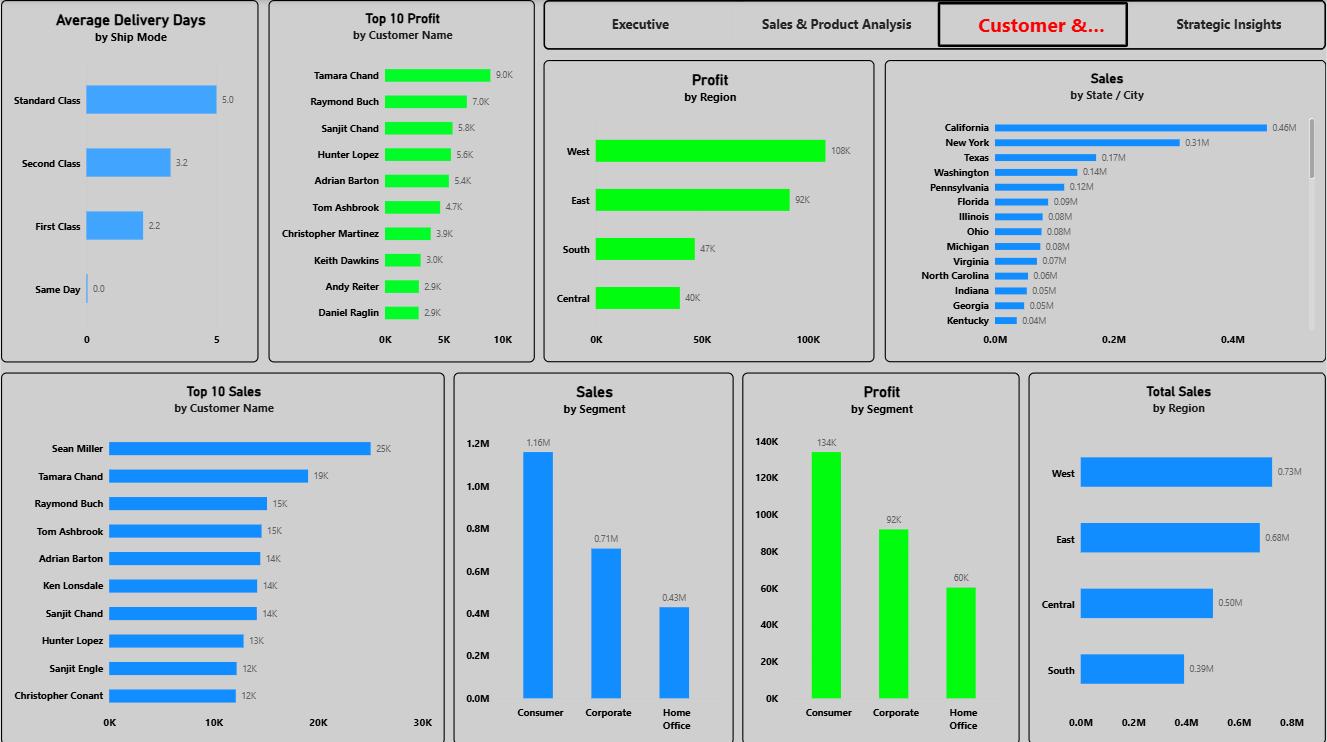

The dashboard page shown, as its layout file describes it:
{"tool":"powerbi","page":{"name":"Customer & Shipping Insights","canvas":[1920,1080],"ordinal":2},"visuals":[{"type":"clusteredBarChart","title":"Top 10 Sales","fields":{"Category":["superstore_project superstore_cleaned.Customer Name"],"Y":["superstore_project superstore_cleaned.Total Sales"]},"box":[0,539.3,642.4,541.1],"z":0},{"type":"clusteredBarChart","title":"Top 10 Profit","fields":{"Category":["superstore_project superstore_cleaned.Customer Name"],"Y":["superstore_project superstore_cleaned.Total Profit"]},"box":[387.3,0,385.5,524.8],"z":1000},{"type":"clusteredColumnChart","title":"Sales","fields":{"Category":["superstore_project superstore_cleaned.Segment"],"Y":["superstore_project superstore_cleaned.Total Sales"]},"box":[655.1,539.3,405.4,541.1],"z":2000},{"type":"clusteredColumnChart","title":"Profit","fields":{"Category":["superstore_project superstore_cleaned.Segment"],"Y":["superstore_project superstore_cleaned.Total Profit"]},"box":[1073.1,539.3,401.7,541.1],"z":3000},{"type":"clusteredBarChart","fields":{"Category":["superstore_project superstore_cleaned.Ship Mode"],"Y":["superstore_project superstore_cleaned.Average Delivery Days"]},"box":[0,0,372.8,524.8],"z":4000},{"type":"clusteredBarChart","title":"Profit","fields":{"Y":["superstore_project superstore_cleaned.Total Profit"],"Category":["superstore_project superstore_cleaned.Region"]},"box":[785.4,86.9,479.6,437.9],"z":5000},{"type":"clusteredBarChart","title":"Sales","fields":{"Category":["superstore_project superstore_cleaned.State","superstore_project superstore_cleaned.City"],"Y":["superstore_project superstore_cleaned.Total Sales"]},"box":[1279.4,86.9,640.6,437.9],"z":6000},{"type":"clusteredBarChart","fields":{"Category":["superstore_project superstore_cleaned.Region"],"Y":["superstore_project superstore_cleaned.Total Sales"]},"box":[1488,540,432,540],"z":7000},{"type":"pageNavigator","box":[786,0,1134,72],"z":14000}]}

Visuals, with their boxes in screenshot pixels (x1, y1, x2, y2), scaled from the page's 1920x1080 canvas onto the 1327x742 screenshot:
"Top 10 Sales" clusteredBarChart: locate(0, 371, 444, 741)
"Top 10 Profit" clusteredBarChart: locate(268, 0, 534, 361)
"Sales" clusteredColumnChart: locate(453, 371, 733, 741)
"Profit" clusteredColumnChart: locate(742, 371, 1019, 741)
clusteredBarChart - superstore_project superstore_cleaned.Ship Mode x superstore_project superstore_cleaned.Average Delivery Days: locate(0, 0, 258, 361)
"Profit" clusteredBarChart: locate(543, 60, 874, 361)
"Sales" clusteredBarChart: locate(884, 60, 1326, 361)
clusteredBarChart - superstore_project superstore_cleaned.Region x superstore_project superstore_cleaned.Total Sales: locate(1028, 371, 1326, 741)
pageNavigator: locate(543, 0, 1326, 49)
